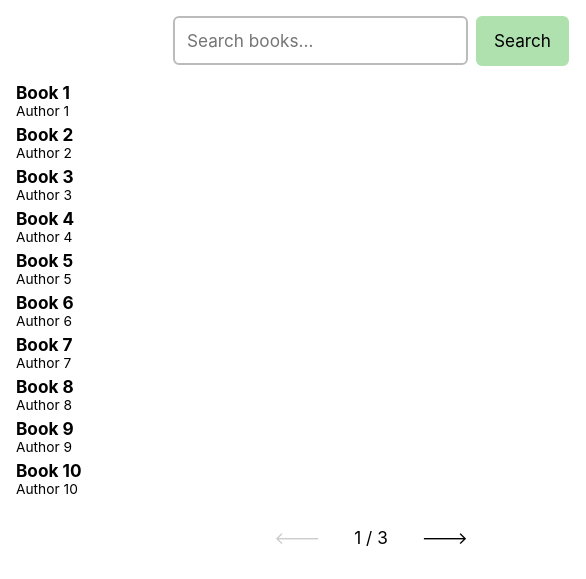
Test case: given the user is on the first page of results, when the user clicks the "Next page" button, it should show the second page of results and the expected paginati
Check: the text "1 / 3" is shown, box [256, 512, 486, 562]
Click the 2nd button named "Next page".
click(445, 537)  # box [404, 512, 486, 562]
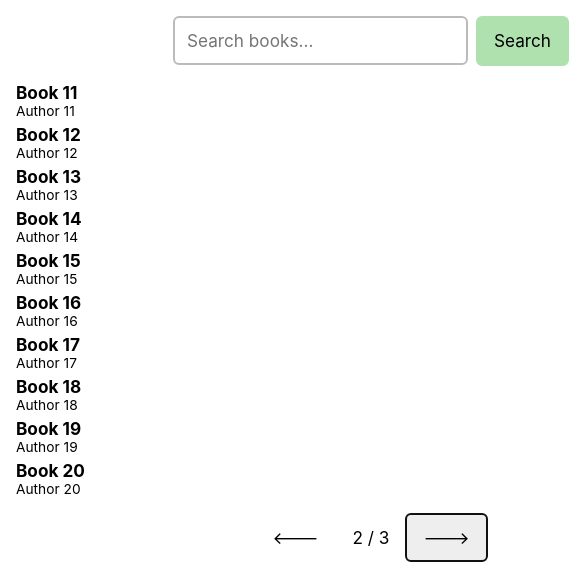
Check: the text "Book 11" is shown, box [16, 82, 77, 102]
Check: the text "Book 12" is shown, box [16, 124, 81, 144]
Check: the 1st button named "Previous page" is enabled, box [254, 512, 336, 562]
